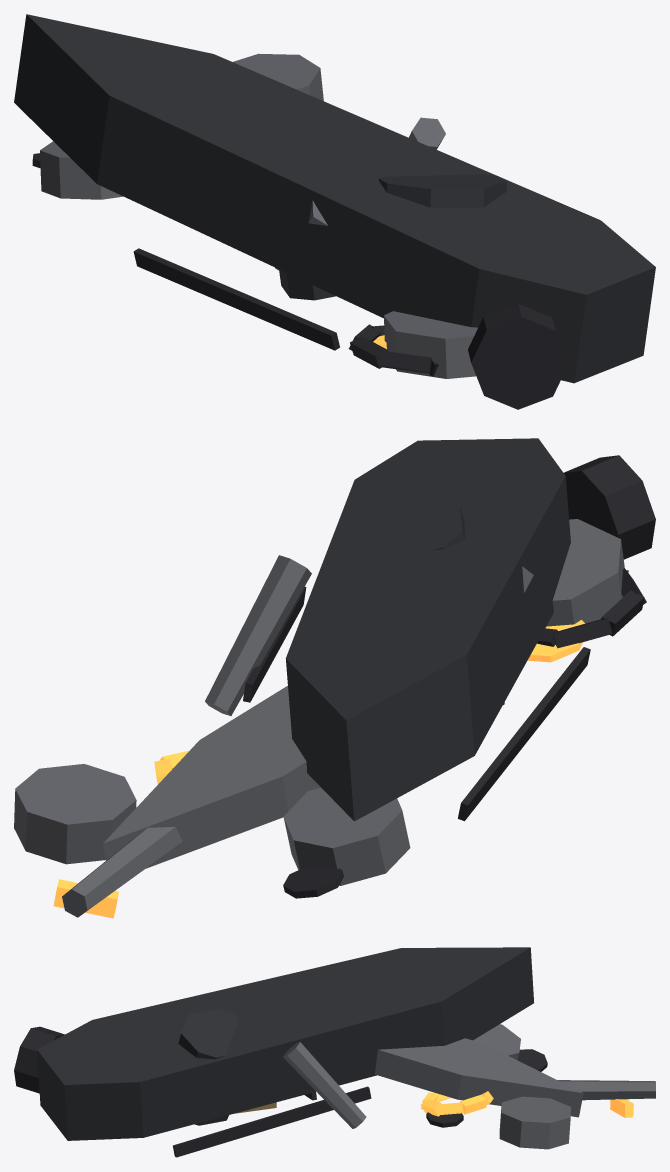
The model's file is Wreck_Aegis_StrikeBike.fbx.
The picture shows the model from 3 angles, top to bottom: view 1: azimuth 30°, elevation 25°; view 2: azimuth 150°, elevation 25°; view 3: azimuth 270°, elevation 25°; orthographic projection. The views are drawn at different scales.
Parts seen in each view (by area): view 1: Wreck_Aegis_StrikeBike; view 2: Wreck_Aegis_StrikeBike; view 3: Wreck_Aegis_StrikeBike.
Part boxes in pixels (x1,y1,x2,y2): Wreck_Aegis_StrikeBike: (14, 14, 655, 409); Wreck_Aegis_StrikeBike: (14, 438, 655, 918); Wreck_Aegis_StrikeBike: (14, 947, 655, 1157).
Bounding box in the file's own units: 0.5501 × 0.2721 × 1.37.
